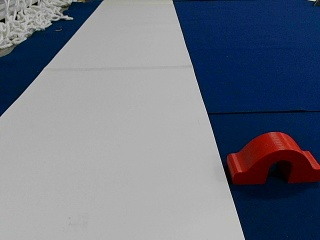bridge: (227, 130, 318, 181)
